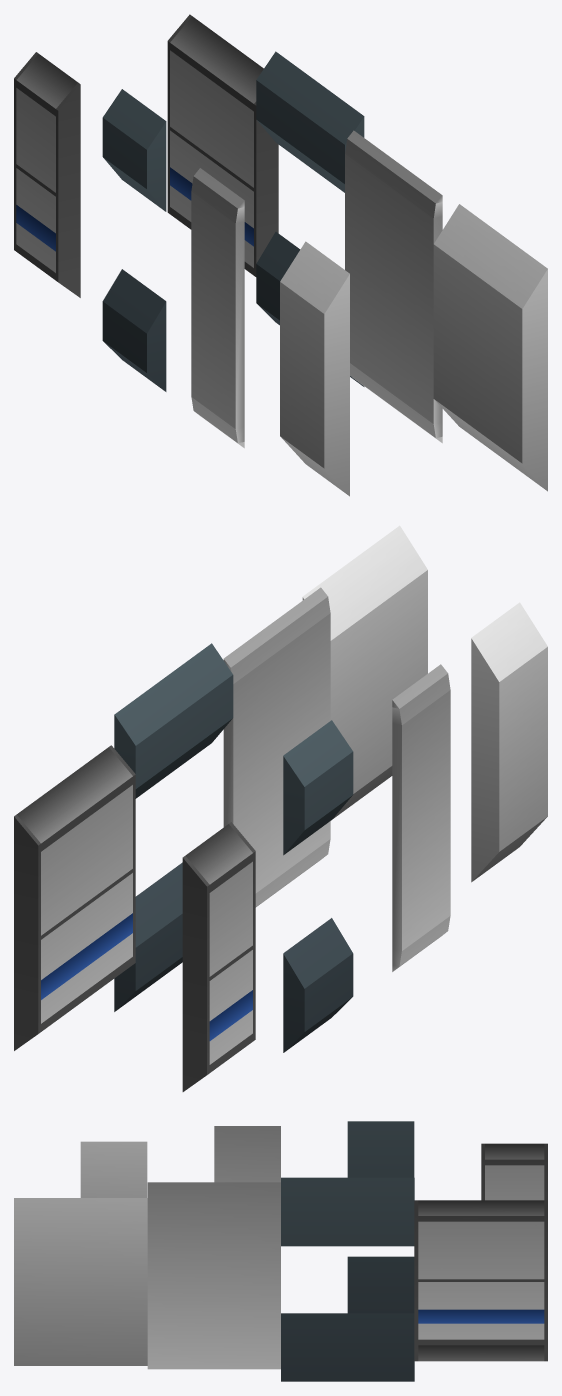
File: AdaptadoresVentanaInt01.fbx
3 views of the same model, one above another, from view 1: azimuth 30°, elevation 25°; view 2: azimuth 150°, elevation 25°; view 3: azimuth 270°, elevation 25° (orthographic). The views are drawn at different scales.
Parts seen in each view (by area): view 1: Object022, Object026, Object020, Object036, Object035, Object038, Object037, Object024; view 2: Object020, Object026, Object022, Object036, Object035, Object024, Object038, Object037; view 3: Object026, Object022, Object020, Object024, Object037, Object035, Object036, Object038.
Part boxes in pixels (x1,y1,x2,y2): Object022: (433,204,547,491); Object026: (345,130,442,443); Object020: (167,14,278,276); Object036: (280,241,349,496); Object035: (14,52,80,297); Object038: (191,168,244,448); Object037: (102,89,166,391); Object024: (256,51,364,386); Object020: (14,745,135,1050); Object026: (223,587,330,907); Object022: (302,525,427,819); Object036: (471,602,547,882); Object035: (182,822,255,1091); Object024: (114,643,233,1011); Object038: (392,664,450,971); Object037: (283,720,353,1052); Object026: (147,1182,280,1369); Object022: (14,1198,147,1365); Object020: (414,1200,547,1361); Object024: (281,1177,414,1381); Object037: (347,1121,414,1313); Object035: (481,1143,547,1200); Object036: (80,1141,147,1197); Object038: (214,1126,280,1182).
Bounding box in the file's own units: 22.96 × 33.2 × 78.74.
2 materials, 2 textured.
